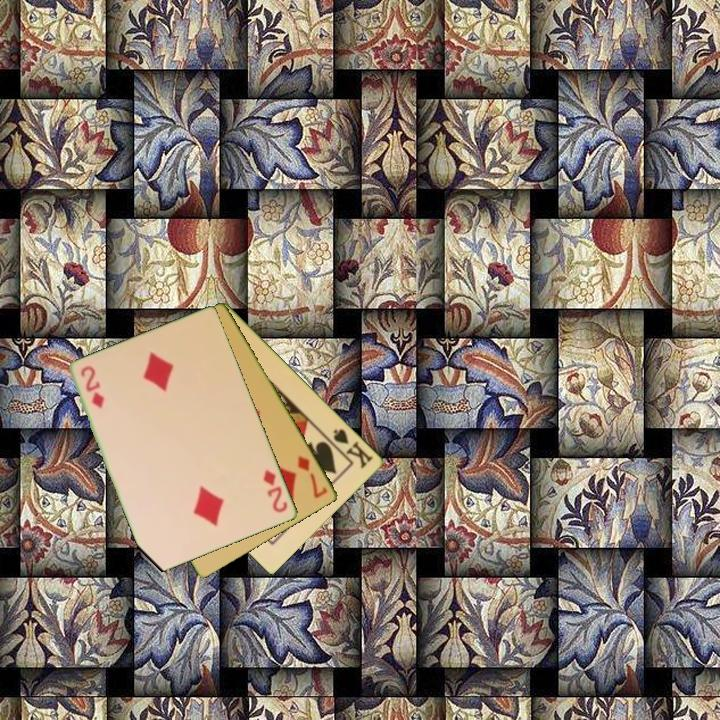2d: (260, 466, 291, 516), (77, 362, 107, 411)
7d: (294, 452, 331, 501)
Ks: (330, 425, 376, 472)
